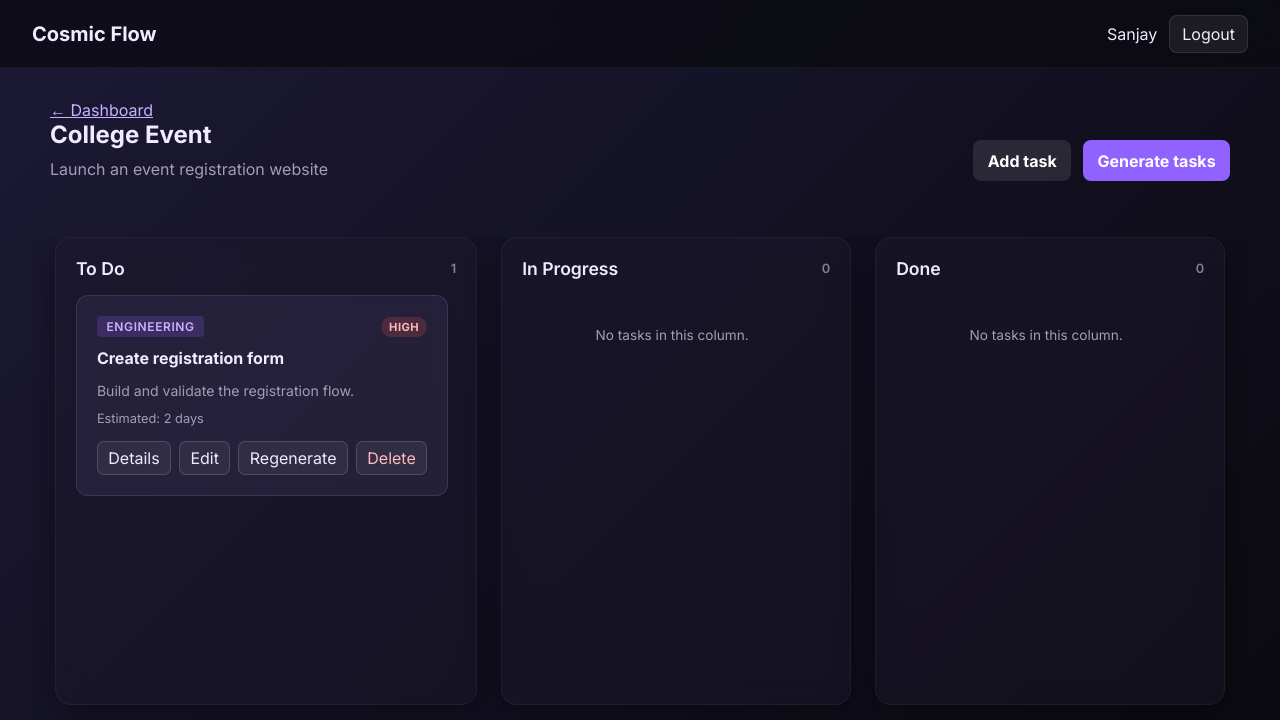
Test: Phase 3 application › persists task regeneration through the API
This screenshot has width=1280, height=720.
Click the button "Regenerate": [293, 458] box [238,441,348,475]
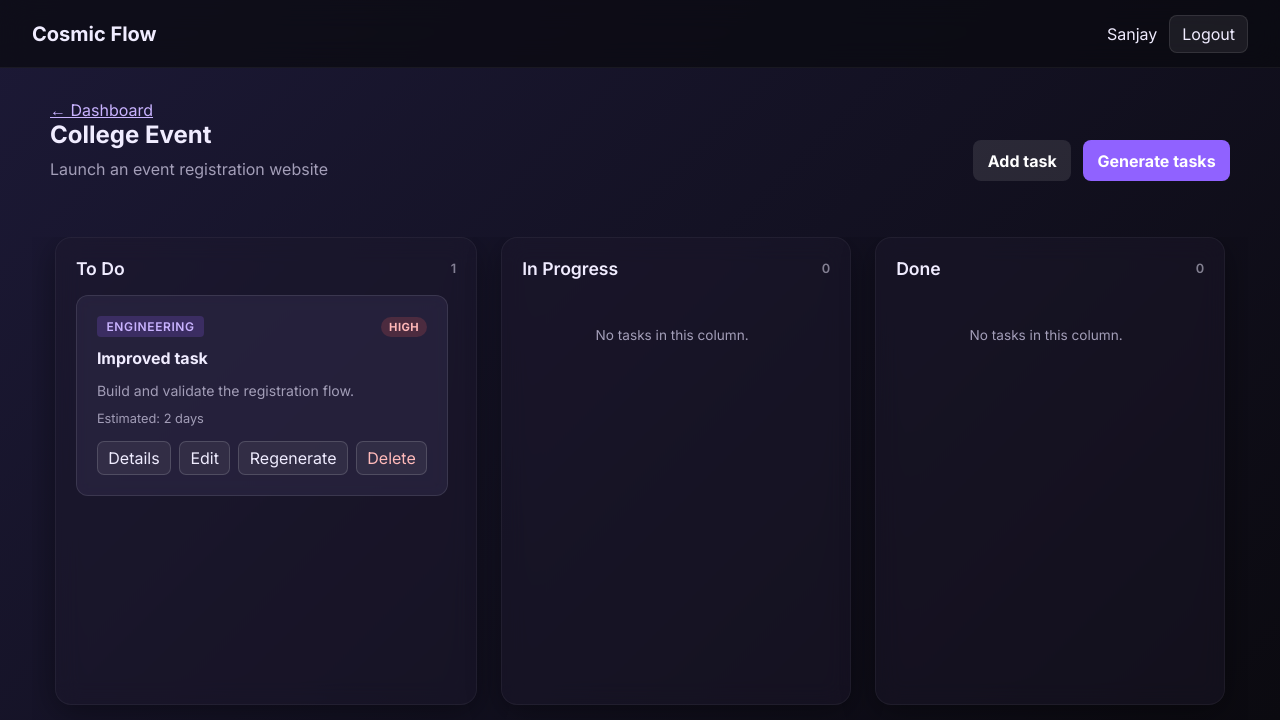
expect the heading "Improved task" is shown: met, box [97,348,208,368]
